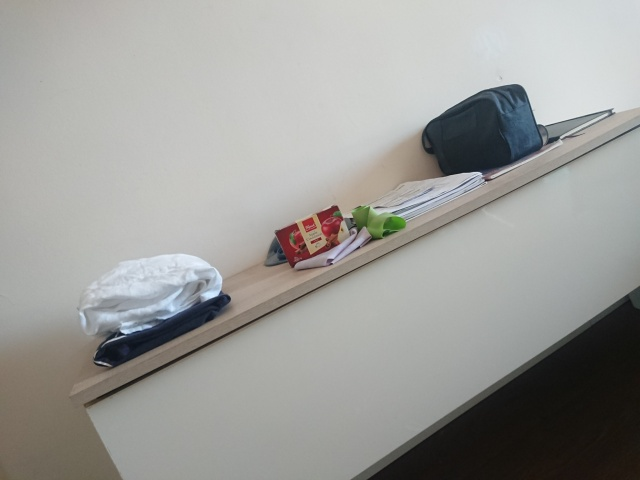Franck Apple Cinnamon Tea 60g: (272, 203, 352, 269)
